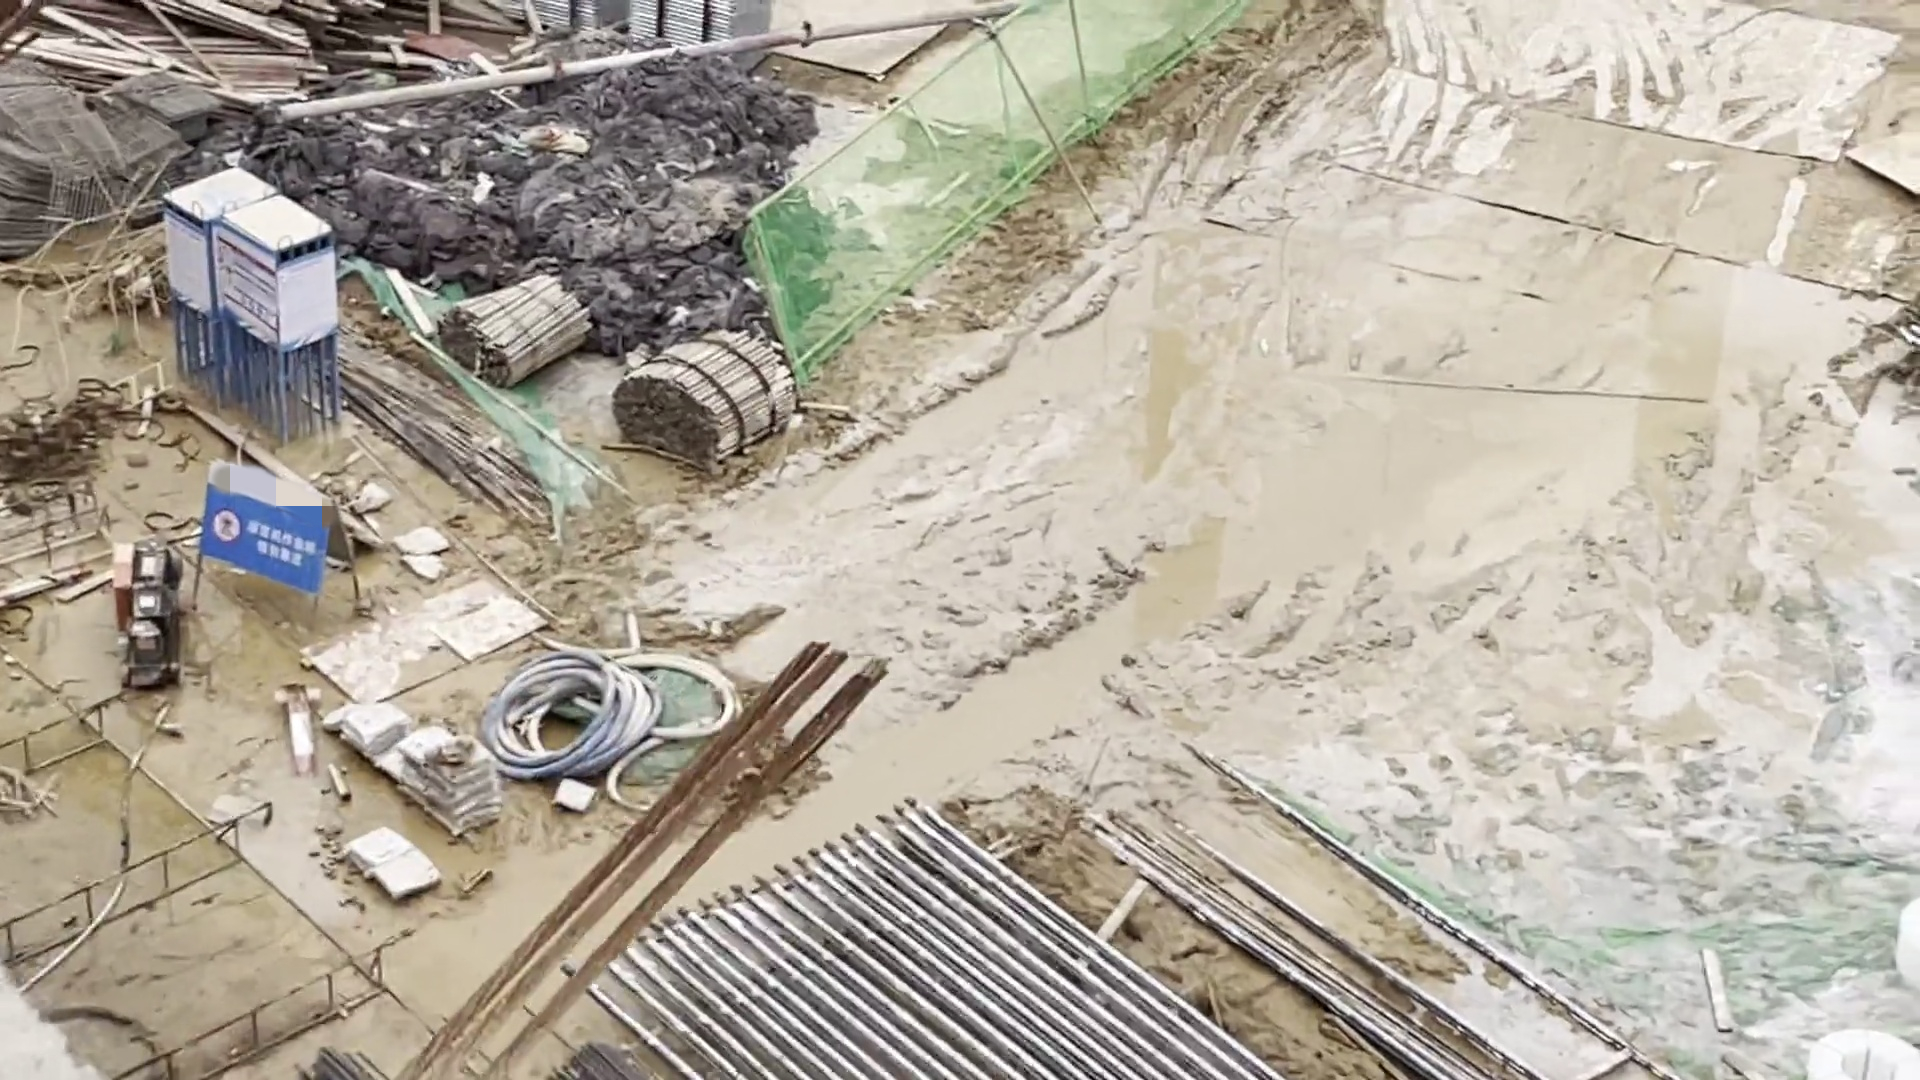rebar: (282, 1029, 658, 1080)
scaffold: (621, 1, 770, 57)
slogan: (194, 464, 330, 592)
